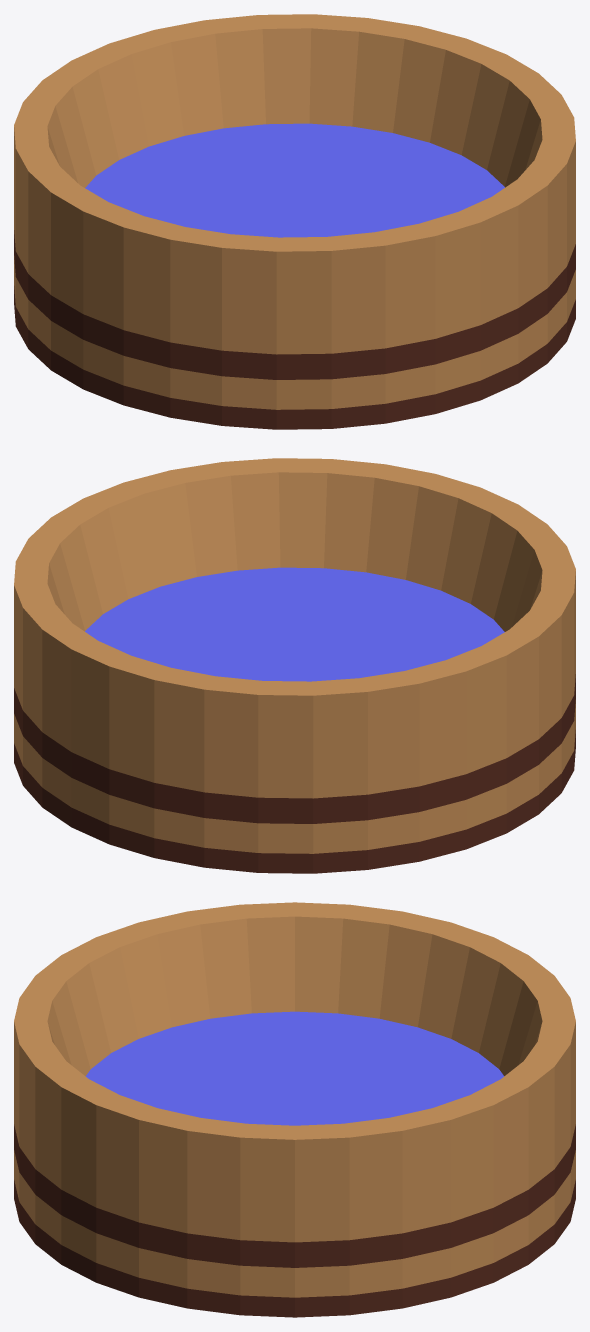
File: oke.fbx
3 views of the same model, one above another, from view 1: azimuth 30°, elevation 25°; view 2: azimuth 150°, elevation 25°; view 3: azimuth 270°, elevation 25° (orthographic).
Parts seen in each view (by area): view 1: 円; view 2: 円; view 3: 円.
Boxes of the visible parts, x1,y1,x2,y2 form: 円: [14, 14, 575, 429]; 円: [14, 458, 575, 873]; 円: [14, 902, 575, 1317].
Size of the model in its own units: 58.95 by 20.57 by 58.95.
